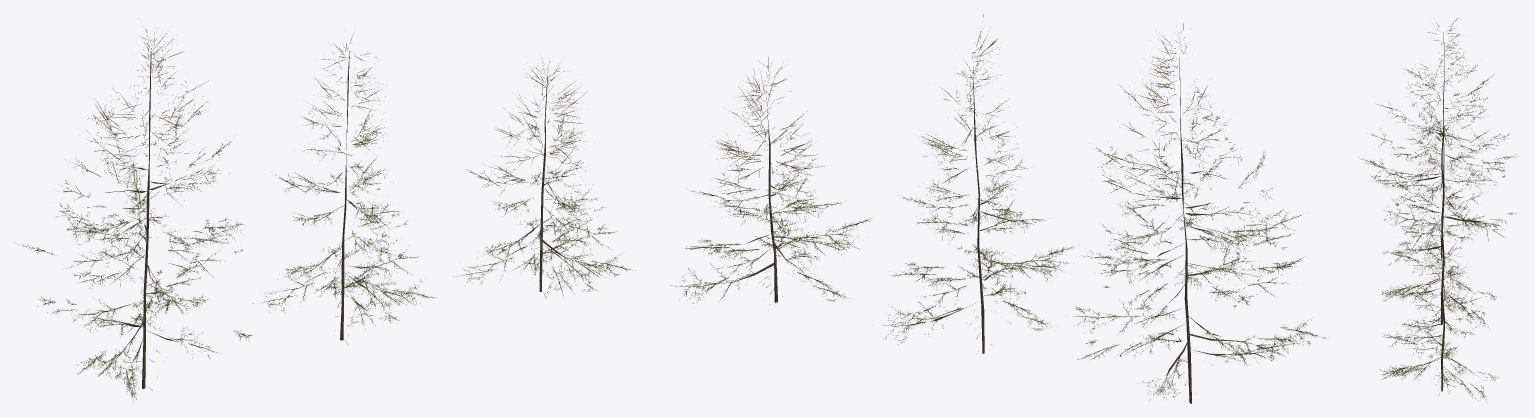
Rendered from fir_sapling_medium.glb.
3 views of the same model, side by side, from view 1: azimuth 30°, elevation 25°; view 2: azimuth 150°, elevation 25°; view 3: azimuth 270°, elevation 25° (orthographic). The views are drawn at different scales.
Visible parts, largest first — view 1: fir_sapling_medium_a_LOD0, fir_sapling_medium_b_LOD0, fir_sapling_medium_c_LOD0; view 2: fir_sapling_medium_a_LOD0, fir_sapling_medium_b_LOD0, fir_sapling_medium_c_LOD0; view 3: fir_sapling_medium_a_LOD0, fir_sapling_medium_b_LOD0, fir_sapling_medium_c_LOD0.
Boxes of the visible parts, x1,y1,x2,y2 form: fir_sapling_medium_a_LOD0: (14, 25, 252, 399); fir_sapling_medium_b_LOD0: (252, 35, 434, 345); fir_sapling_medium_c_LOD0: (453, 57, 635, 297); fir_sapling_medium_a_LOD0: (1066, 23, 1326, 403); fir_sapling_medium_b_LOD0: (873, 14, 1078, 353); fir_sapling_medium_c_LOD0: (670, 56, 871, 305); fir_sapling_medium_a_LOD0: (1361, 17, 1518, 257); fir_sapling_medium_b_LOD0: (1382, 116, 1496, 326); fir_sapling_medium_c_LOD0: (1379, 232, 1496, 401).
Size of the model in its own units: 14.71 by 8.85 by 5.18.
Materials: 3 (3 with a texture image).
